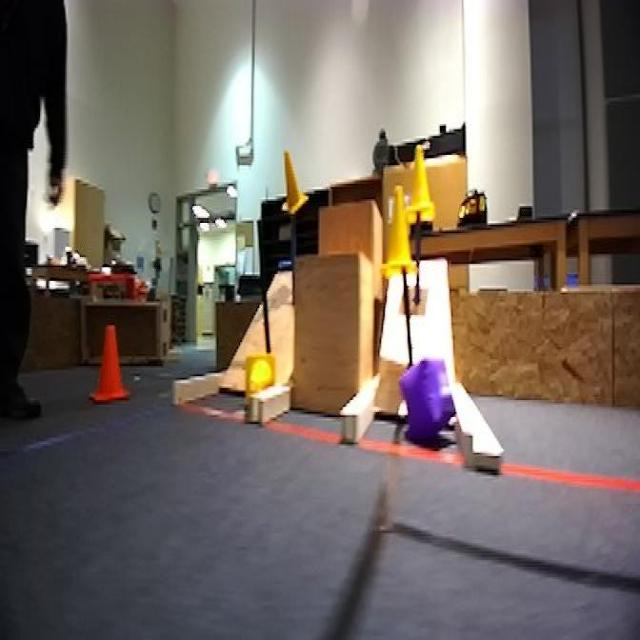frc_cone: (384, 184, 421, 276), (405, 145, 438, 223), (280, 150, 308, 218), (244, 351, 275, 410)
frc_cube: (396, 352, 454, 439)
